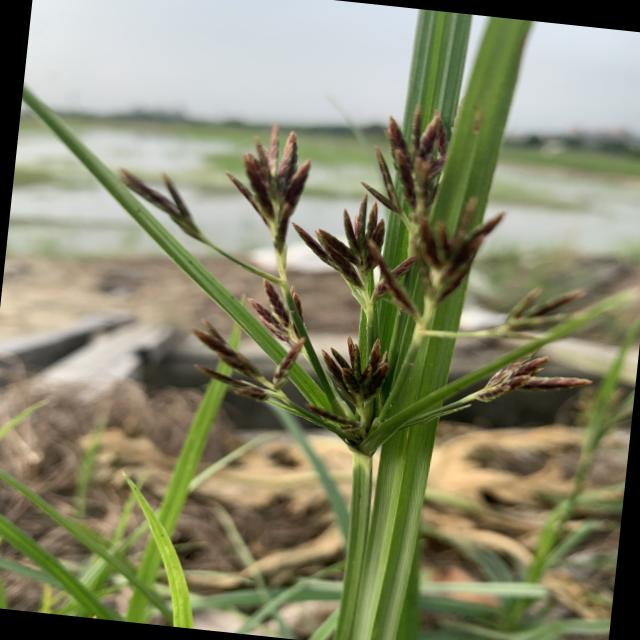cyperus: (82, 71, 631, 485)
